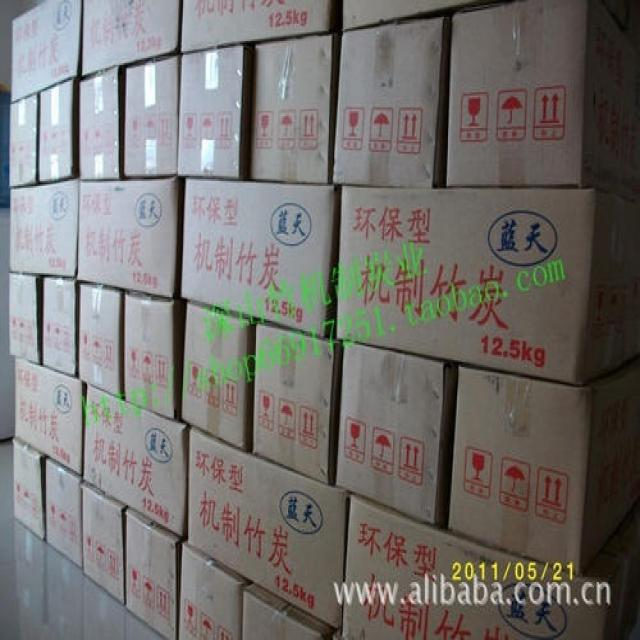Carton: (180, 183, 342, 628), (337, 191, 637, 384), (6, 0, 120, 393), (77, 43, 241, 292), (449, 365, 635, 575), (444, 0, 585, 184), (79, 294, 183, 536), (334, 343, 445, 527), (332, 19, 439, 181), (10, 358, 79, 538), (45, 459, 123, 601), (250, 38, 328, 176), (182, 307, 247, 445), (123, 512, 175, 638), (180, 548, 239, 638)
